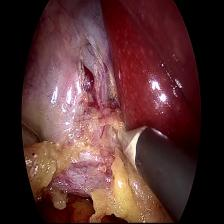Grasper: (21, 117, 48, 157)
Hook: (108, 117, 153, 170)
